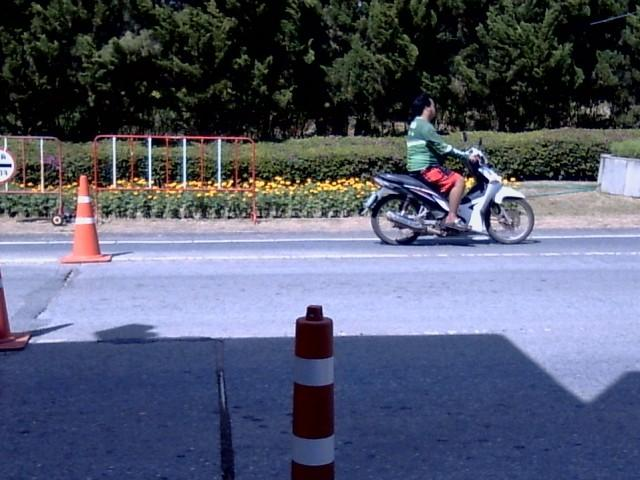motor: (363, 147, 534, 243)
no-helmet: (411, 91, 435, 119)
person: (406, 93, 478, 228)
